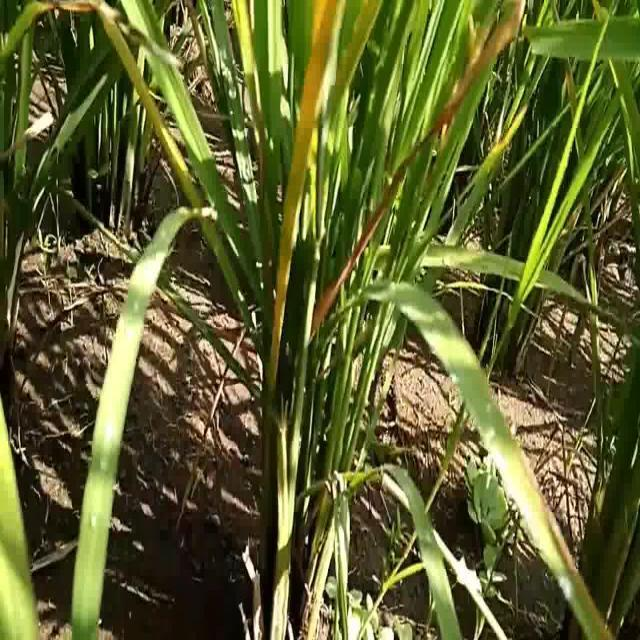Rice Tungro: (307, 4, 531, 342), (261, 6, 349, 388), (102, 1, 192, 197)
